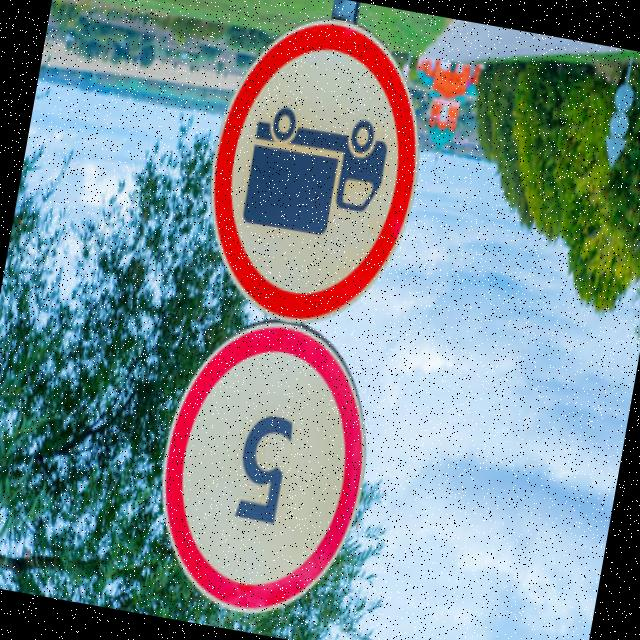do_not_enter: (177, 0, 454, 350)
